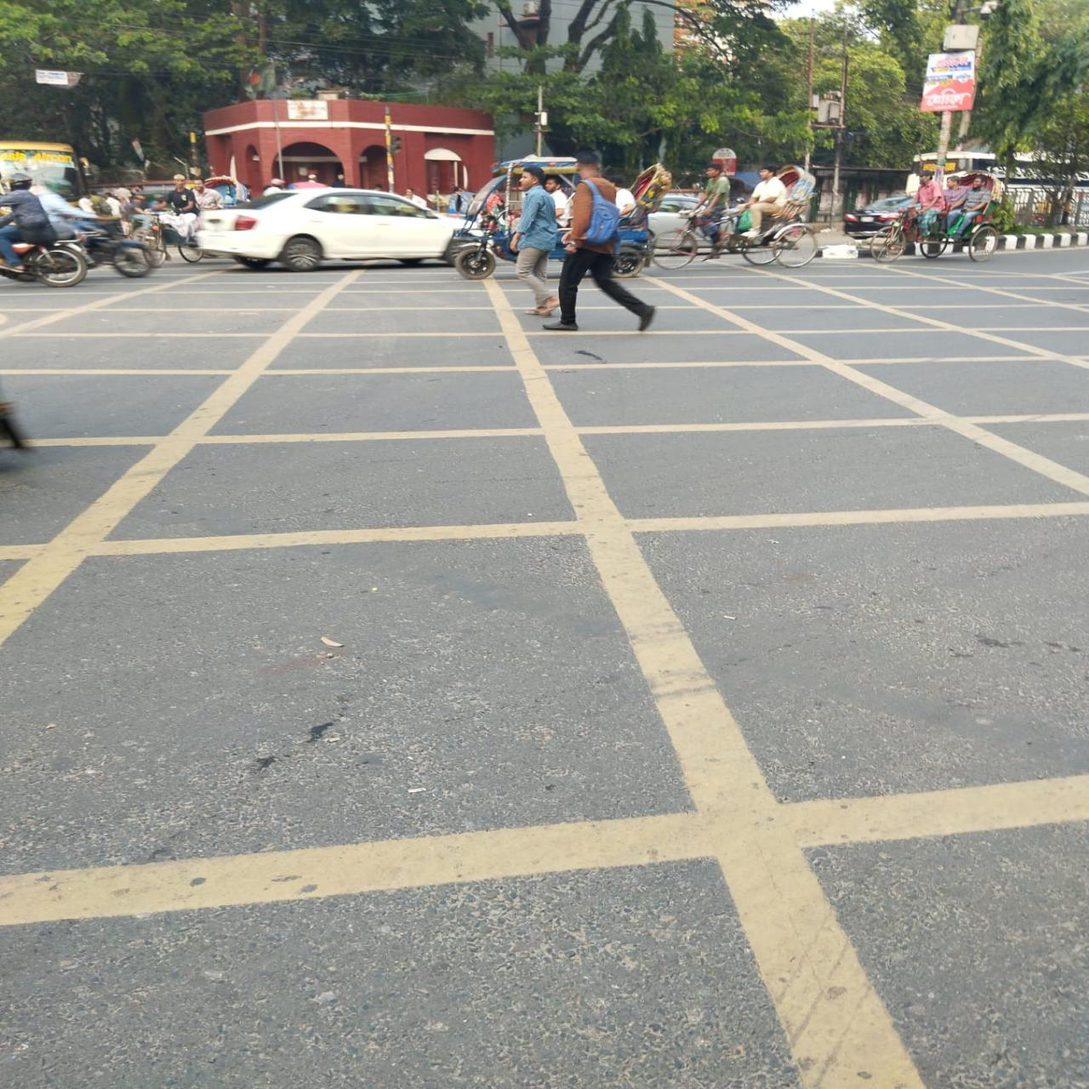person: (542, 152, 657, 332), (509, 166, 559, 319)
